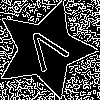V: (20, 24, 76, 81)
